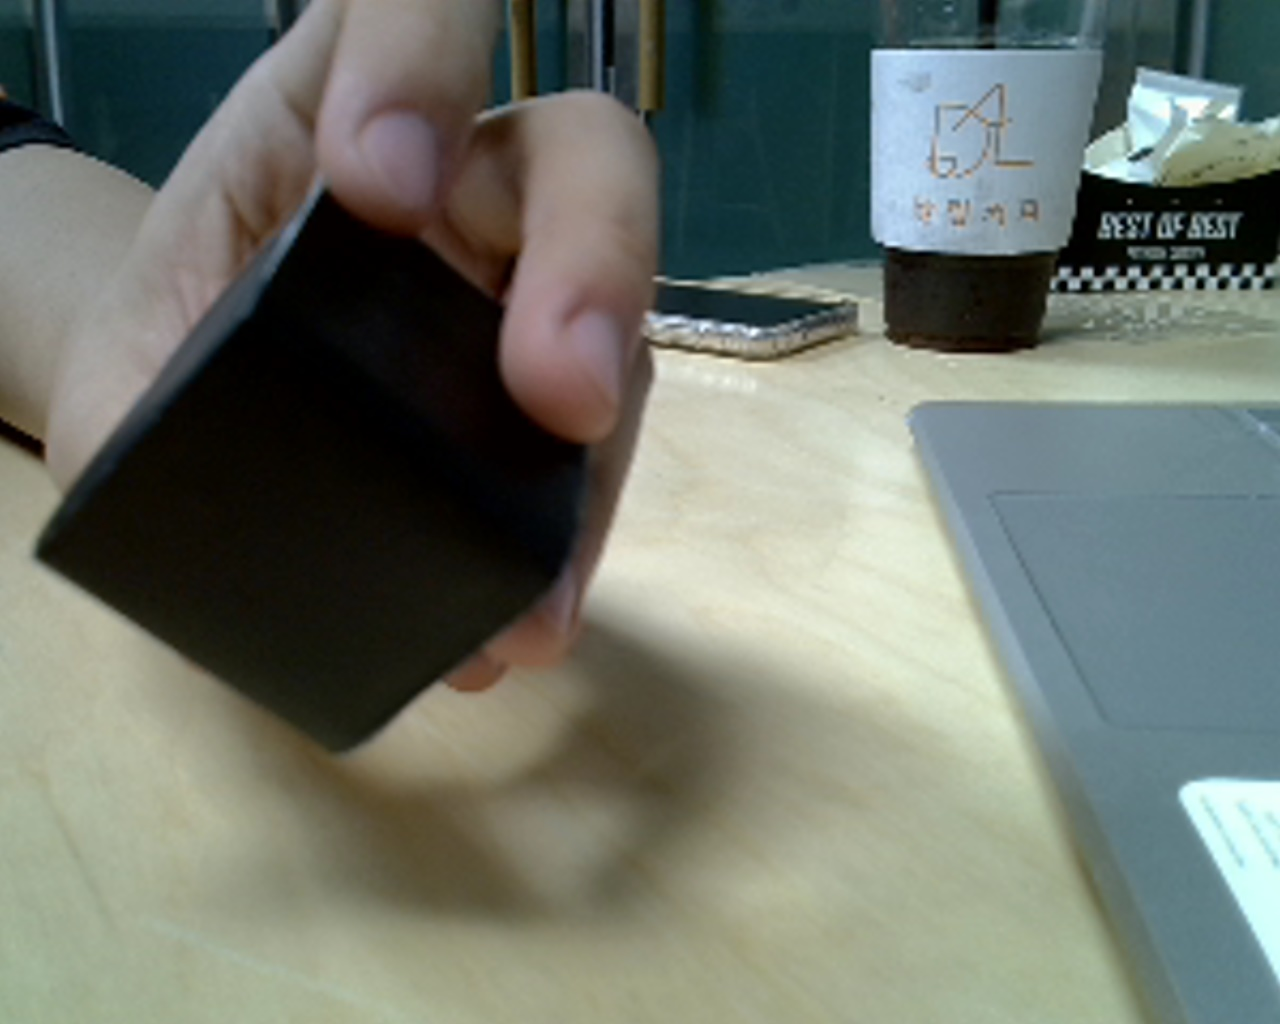blackbox: (11, 153, 645, 797)
